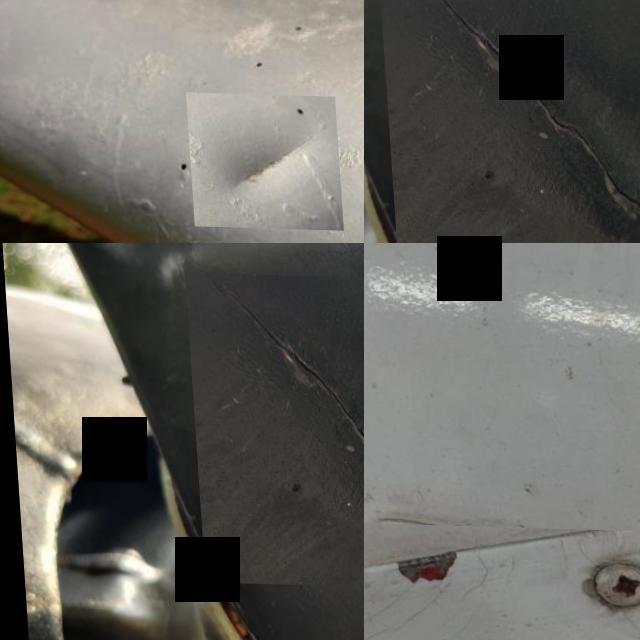Crack: (376, 0, 640, 243), (183, 271, 364, 588), (364, 520, 640, 640)
Dent: (182, 92, 338, 228)
